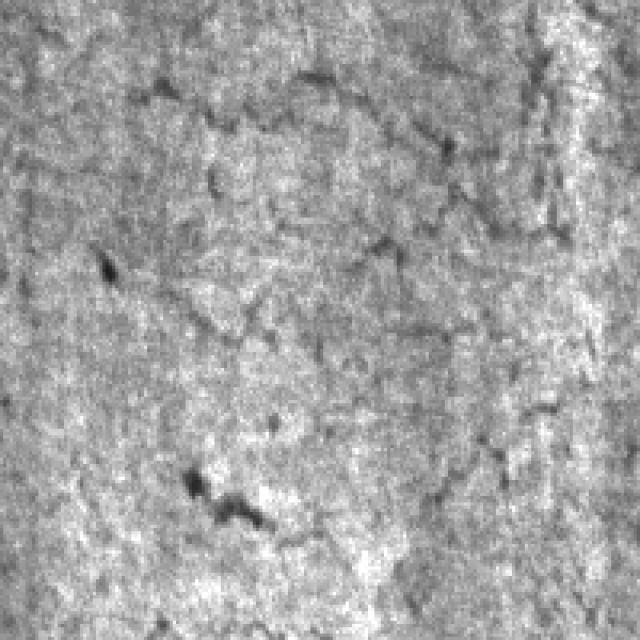crazing: (109, 227, 624, 499), (125, 10, 611, 240)
